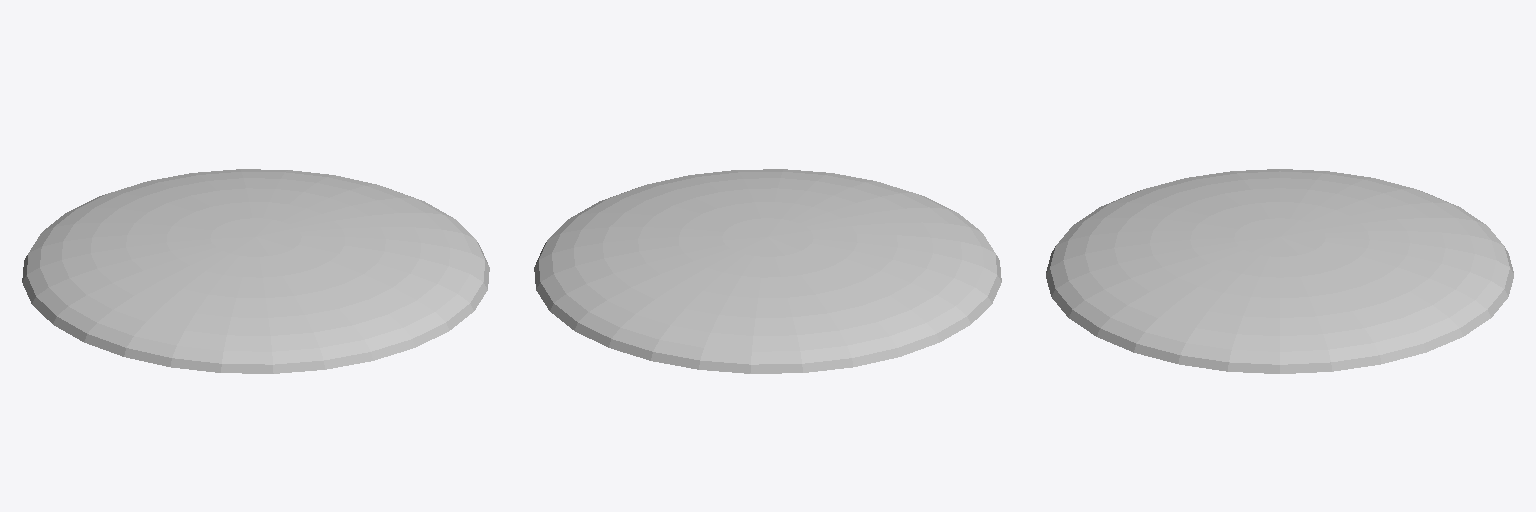
Rendered from lens.obj.
3 renders of one model, left to right at view 1: azimuth 30°, elevation 25°; view 2: azimuth 150°, elevation 25°; view 3: azimuth 270°, elevation 25°, orthographic.
Parts seen in each view (by area): view 1: Circle; view 2: Circle; view 3: Circle.
Boxes of the visible parts, <box> form: Circle: <box>22,169,489,373</box>; Circle: <box>534,169,1001,373</box>; Circle: <box>1046,169,1513,373</box>.
Size of the model in its own units: 1.88 by 0.1688 by 1.88.